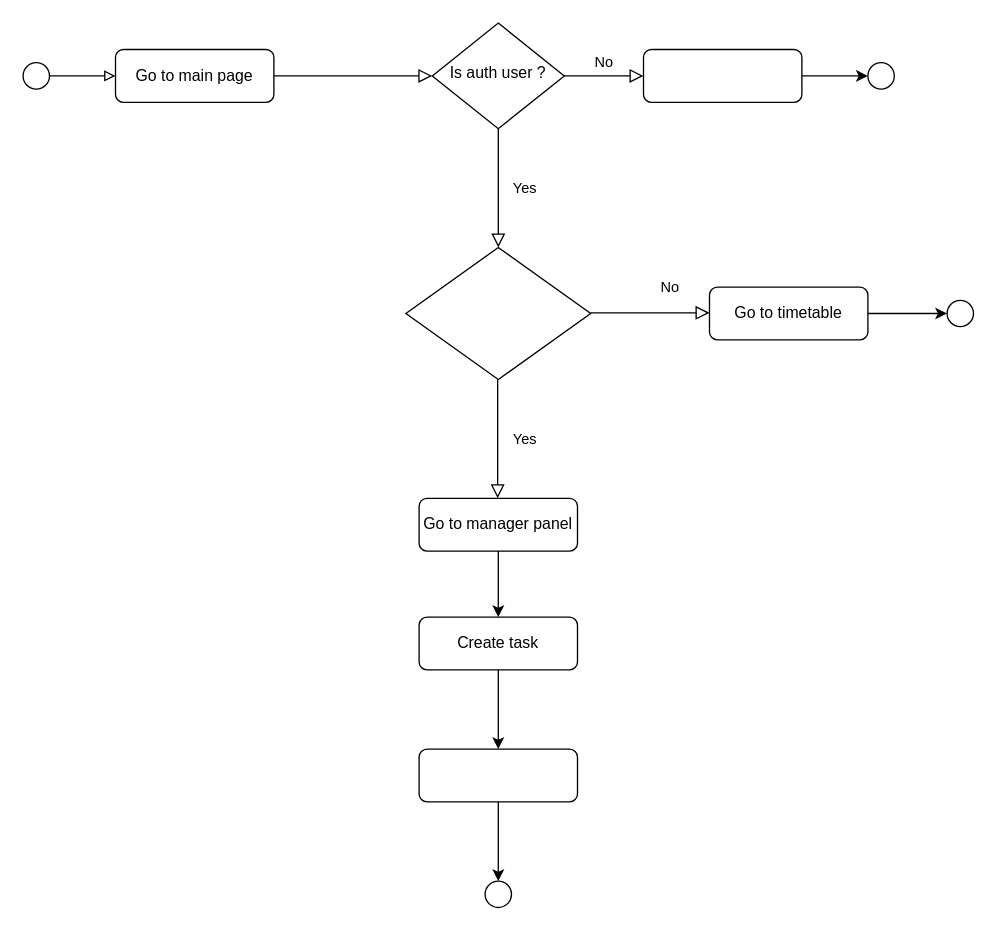
Image size: 997x931. Some labels were removed from this diagram. The shapes that lost their labels are listed below. From the top down, each one's centre as x and y in pixels, then its label:
At point 722,75: "Go to login page".
At point 498,313: "Is manager ?".
At point 498,775: "Set task".
